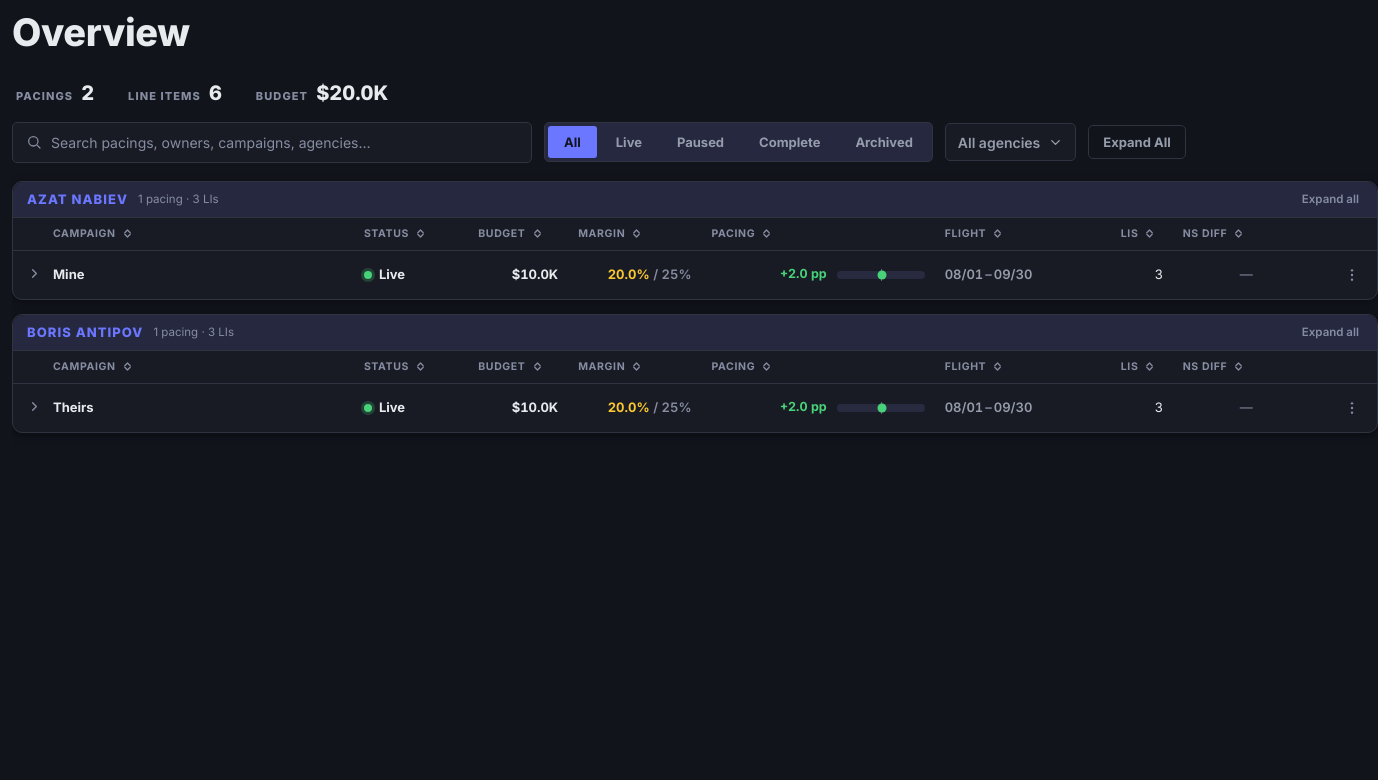
it: Overview › should expand and collapse every row from the toolbar, and a whole group from its header
The width and height of the screenshot is (1378, 780).
Expected: the text "Mine" is shown, [53,265,84,284]
# the toolbar's Expand All
Click the button "Expand All". click: click(1137, 142)
box: [1088,125,1186,159]
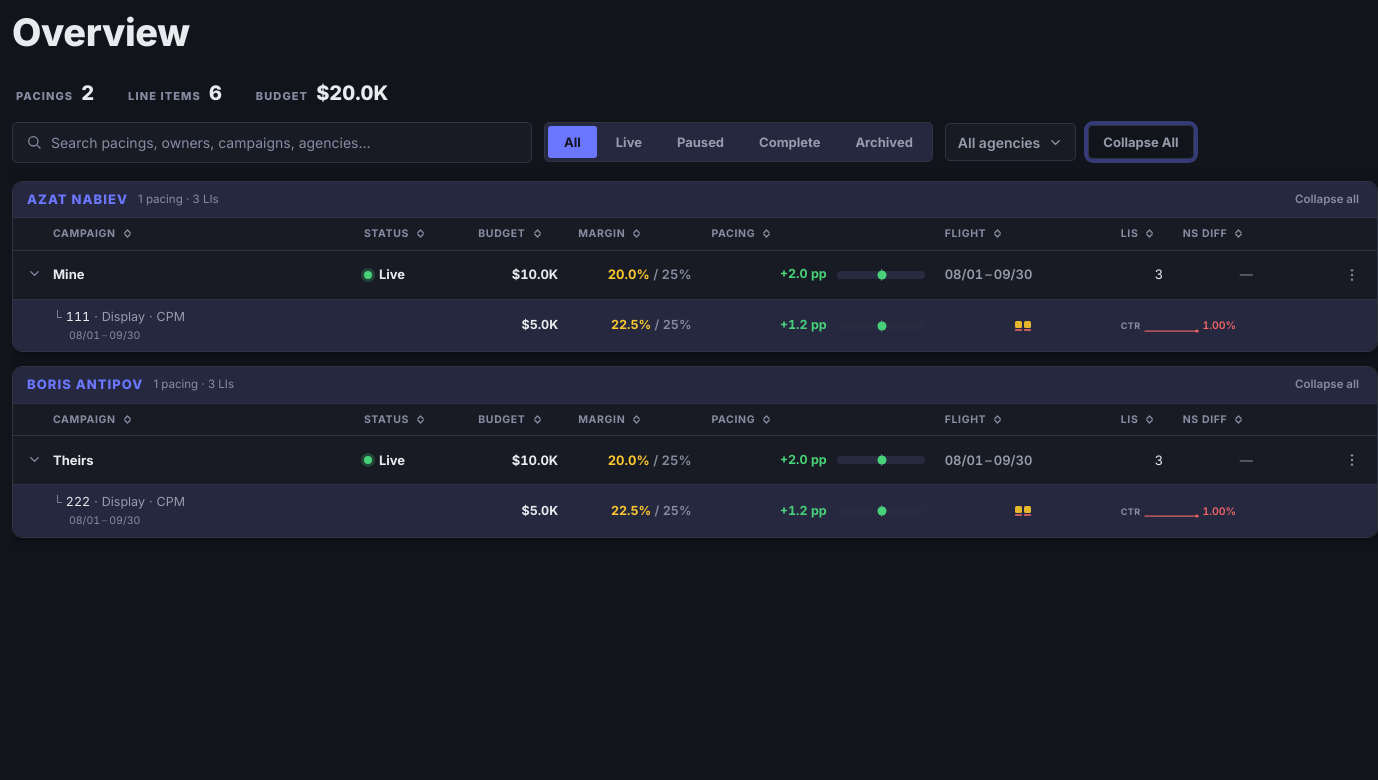
Expected: the text "111" is shown, [66,309,90,324]
Expected: the text "222" is shown, [66,494,90,509]
Click the button "Collapse All". click: click(1141, 142)
box: [1088,125,1194,159]
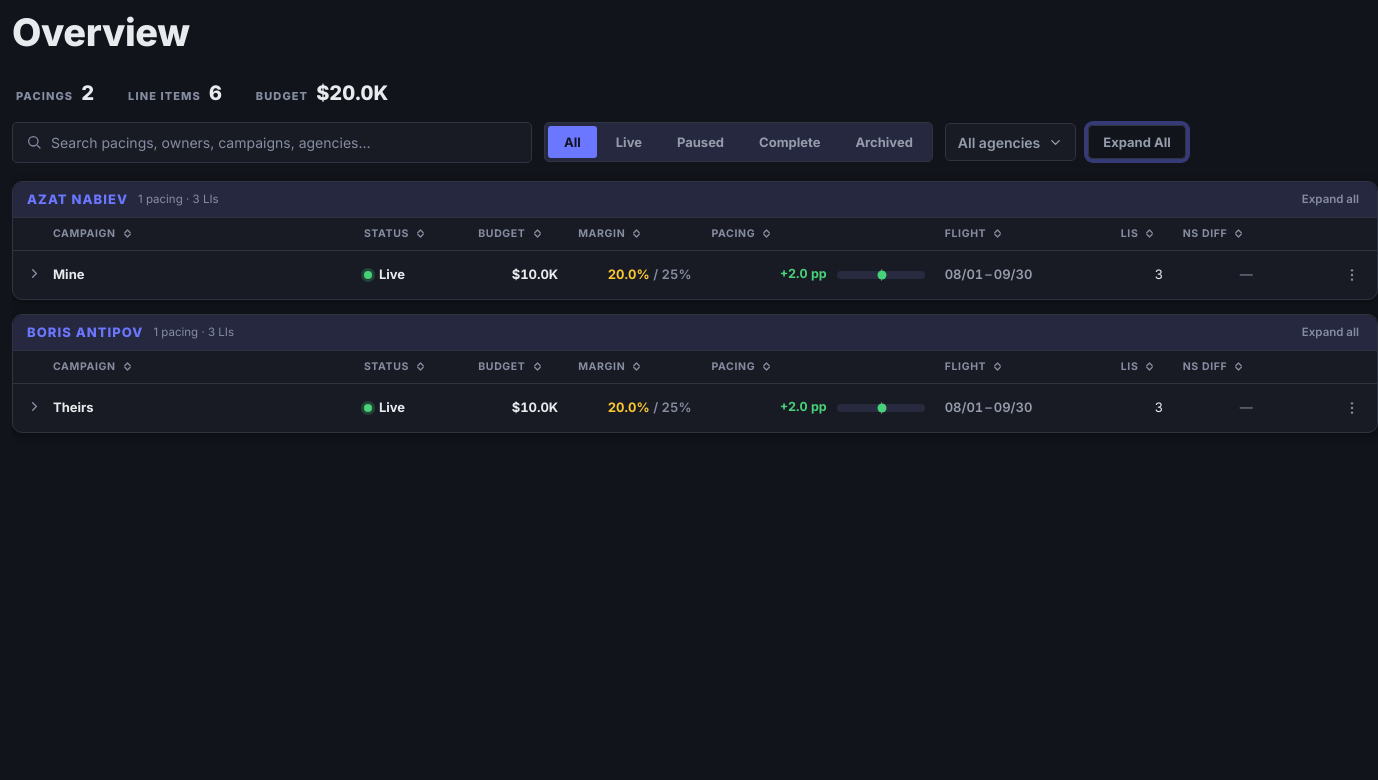
Expected: the text "111" is gone
# one group's own "Expand all"
Click the button "Expand all" in the row of "Azat Nabiev". click: click(1330, 199)
box: [1298,189,1363,210]
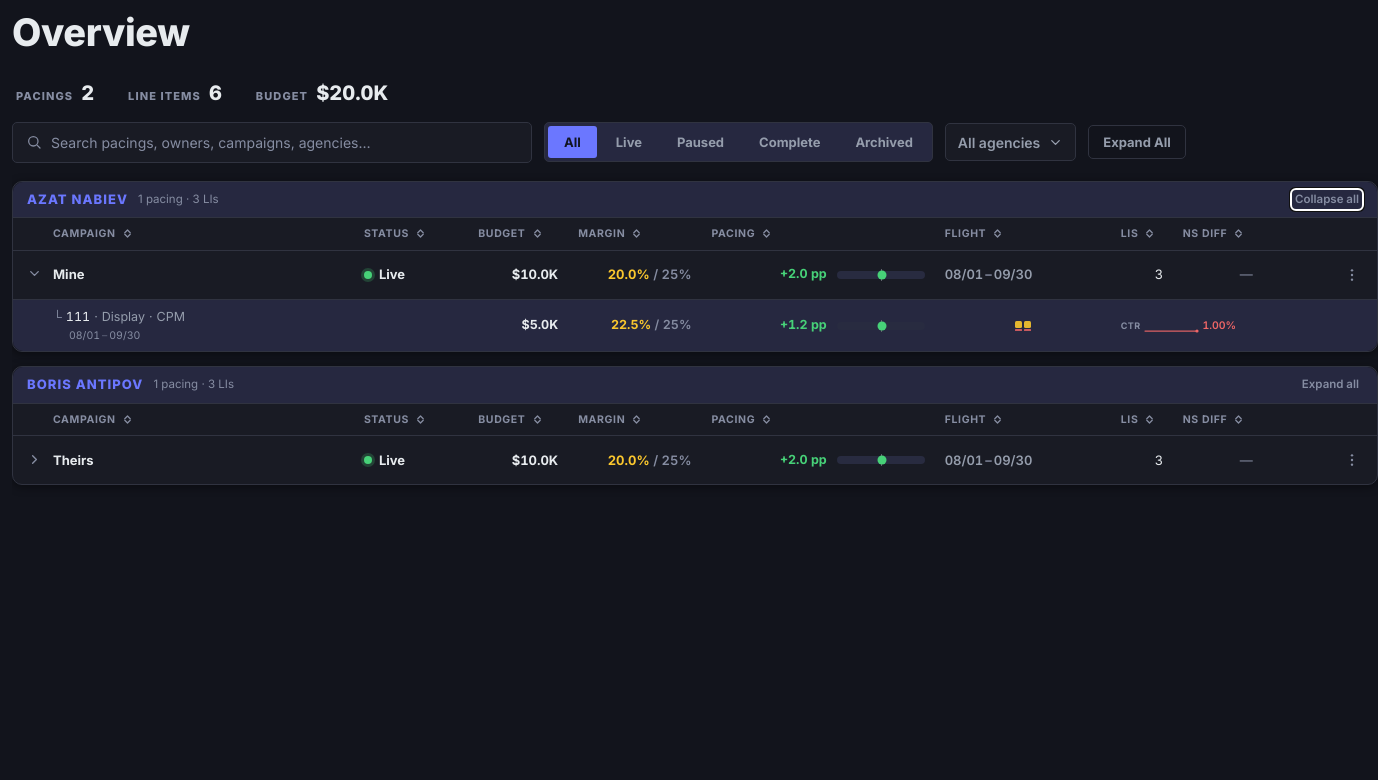
Expected: the text "222" is not shown
Expected: the text "111" is shown, [66,309,90,324]
